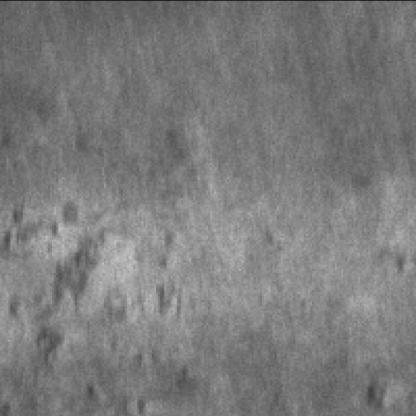rolled-in_scale: (2, 168, 183, 414)
